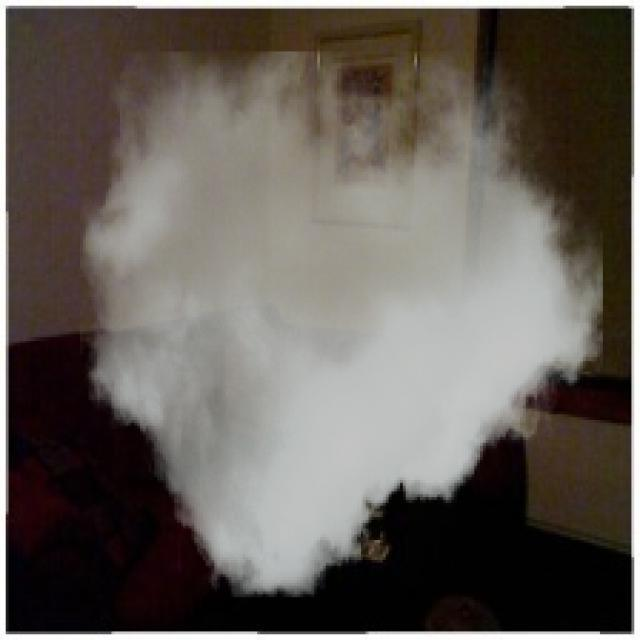Smoke: (80, 52, 603, 598)
